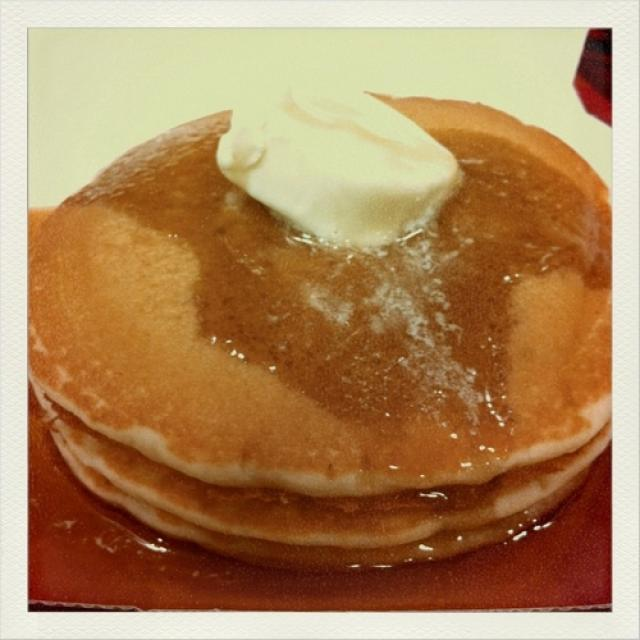蛋糕甜品: (29, 45, 594, 591)
